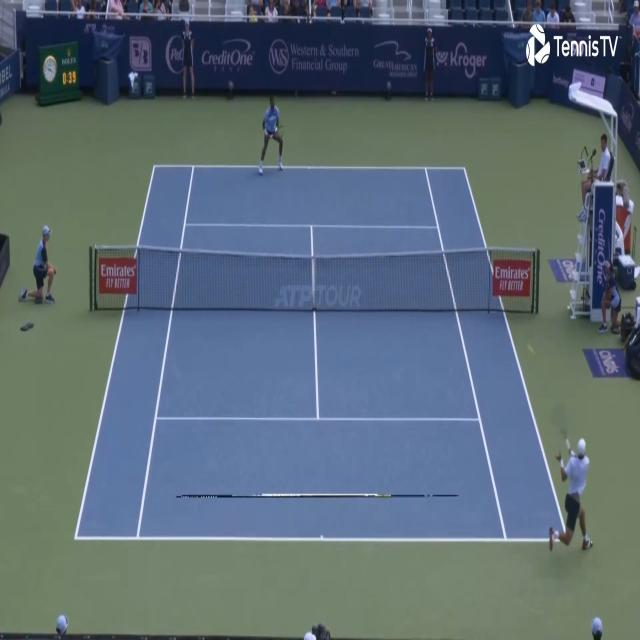tennis-player: (547, 430, 596, 560), (258, 91, 286, 173)
